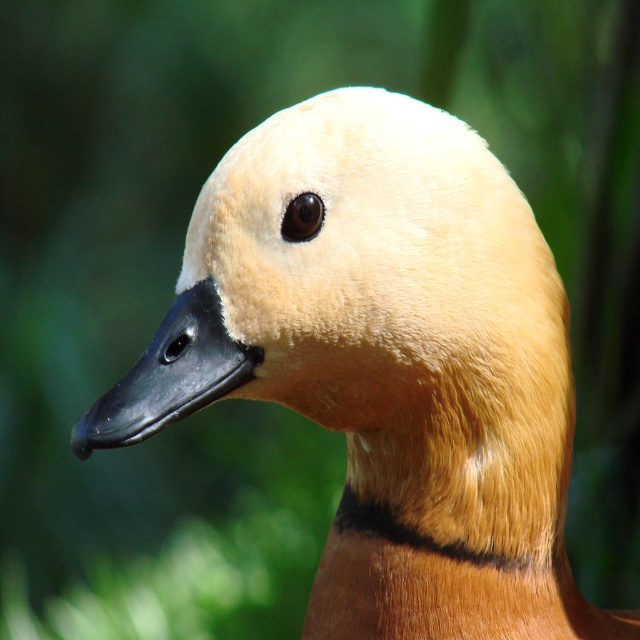Duck: (56, 108, 619, 634)
